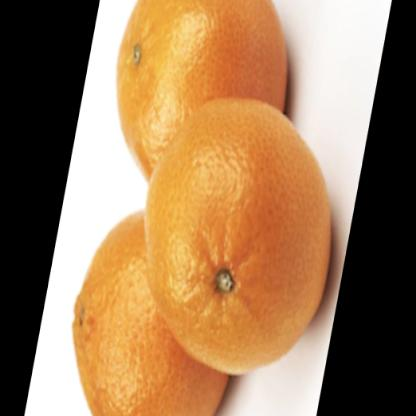fresh: (75, 1, 334, 416)
